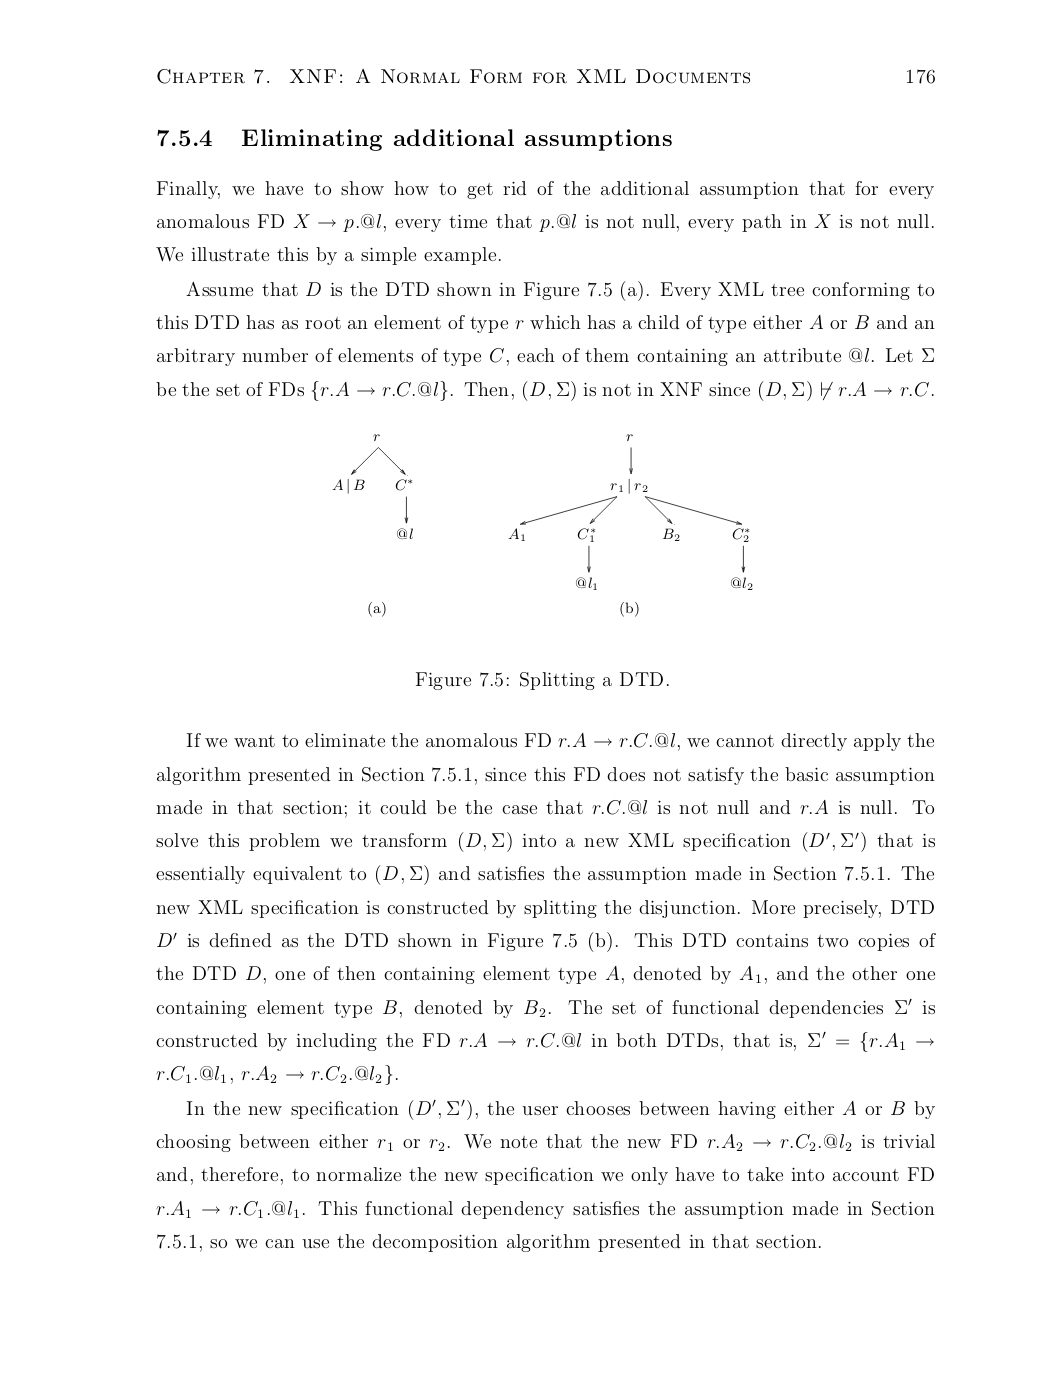figure: (508, 434, 752, 590), (332, 434, 412, 539)
formula: (156, 1064, 397, 1085)
